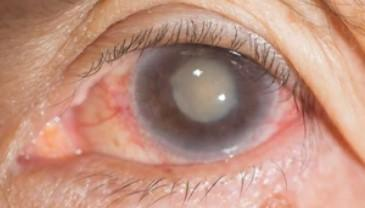eye: (136, 46, 271, 153)
